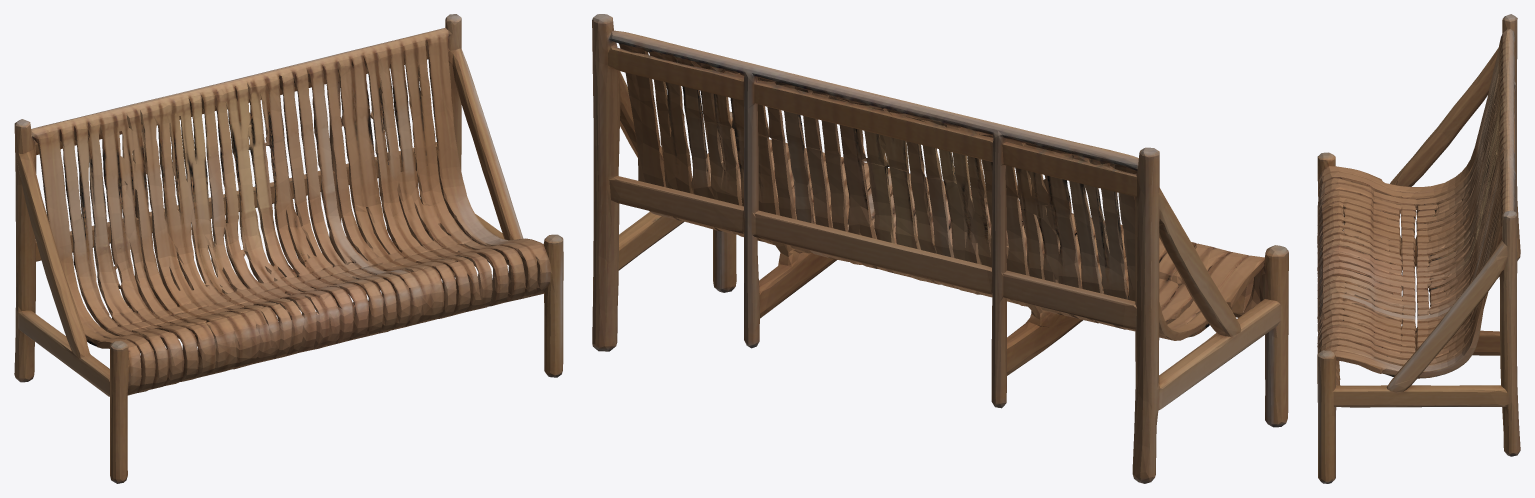
3 renders of one model, left to right at view 1: azimuth 30°, elevation 25°; view 2: azimuth 150°, elevation 25°; view 3: azimuth 270°, elevation 25°, orthographic. The views are drawn at different scales.
Parts seen in each view (by area): view 1: world; view 2: world; view 3: world.
Part boxes in pixels (x1,y1,x2,y2): world: [14, 14, 563, 483]; world: [592, 14, 1288, 483]; world: [1317, 14, 1520, 483].
Bounding box in the file's own units: 0.9657 × 0.5909 × 0.4043.
1 material, 1 textured.
